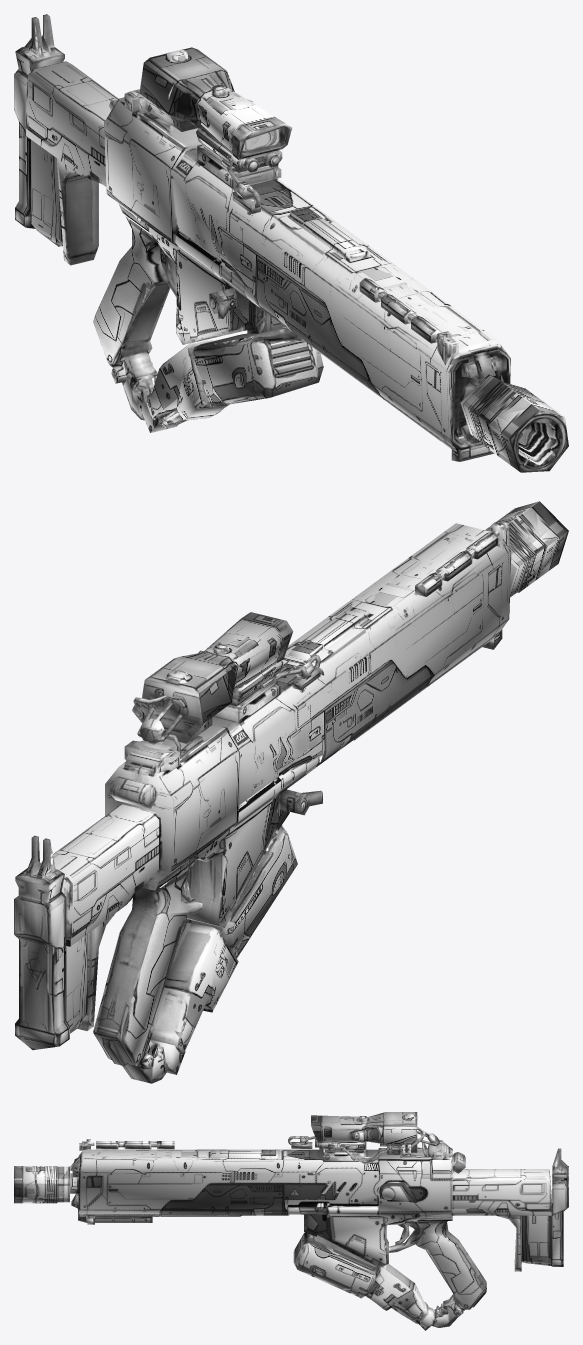
3 views of the same model, one above another, from view 1: azimuth 30°, elevation 25°; view 2: azimuth 150°, elevation 25°; view 3: azimuth 270°, elevation 25° (orthographic). The views are drawn at different scales.
Parts seen in each view (by area): view 1: gun; view 2: gun; view 3: gun.
Boxes of the visible parts, left/top/right/bottom form: gun: left=14, top=14, right=568, bottom=472; gun: left=14, top=501, right=568, bottom=1083; gun: left=14, top=1112, right=568, bottom=1330.
Size of the model in its own units: 0.2348 by 0.8849 by 2.1.
Materials: 4 (4 with a texture image).
